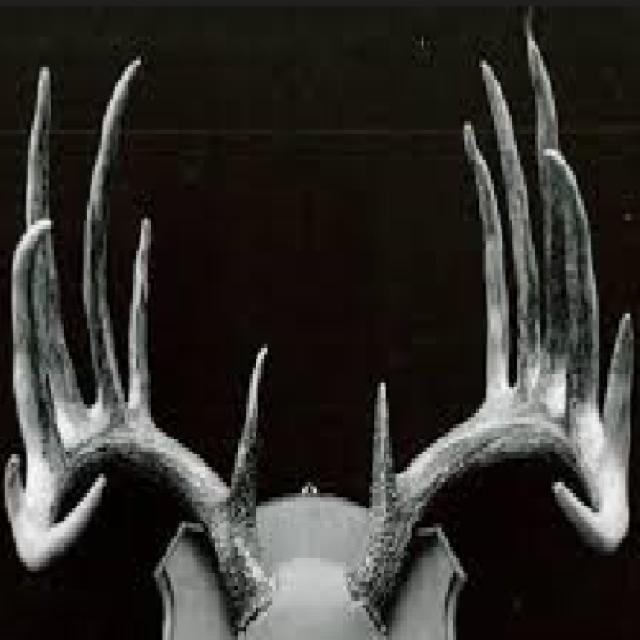L-F: (346, 409, 632, 634)
L-G1: (369, 373, 396, 499)
L-G2: (461, 118, 510, 402)
L-G3: (477, 56, 542, 388)
L-G5: (541, 144, 600, 420)
L-G6: (603, 308, 635, 434)
R-F: (10, 412, 275, 638)
R-G1: (229, 340, 271, 504)
R-G2: (126, 211, 156, 425)
R-G3: (83, 53, 143, 403)
R-G4: (10, 216, 65, 486)
R-G5: (3, 453, 24, 527)
